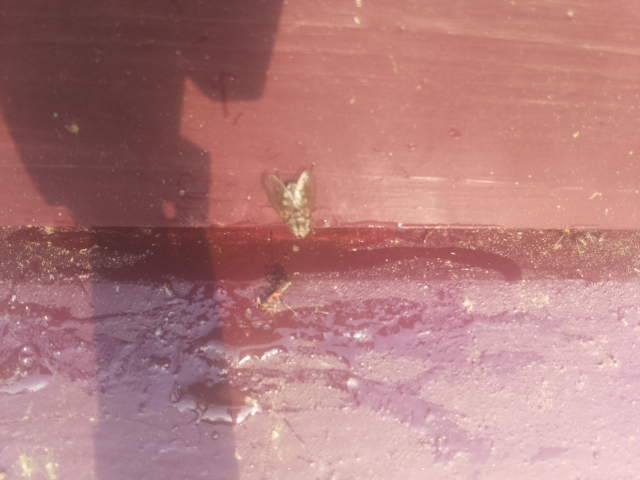ant: (271, 164, 321, 237), (199, 64, 246, 121), (2, 341, 48, 387), (261, 275, 293, 310)
